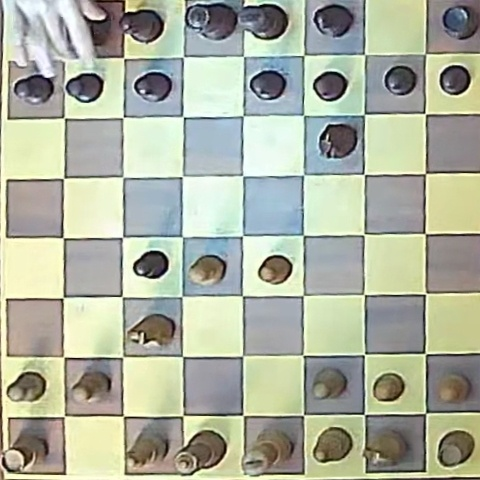black-bishop: (120, 9, 163, 44), (313, 4, 353, 38)
black-king: (239, 3, 286, 40)
black-knight: (318, 123, 357, 158)
black-pawn: (13, 73, 55, 105), (133, 71, 172, 102), (65, 72, 104, 102), (250, 70, 286, 100), (133, 250, 169, 280), (313, 71, 347, 101), (384, 65, 417, 95), (439, 65, 471, 95)
black-queen: (185, 3, 239, 41)
black-rook: (441, 5, 477, 39)
white-bishop: (127, 430, 168, 469), (313, 427, 352, 463)
white-king: (242, 428, 292, 475)
white-knight: (363, 430, 406, 467), (127, 314, 174, 347)
white-pawn: (71, 371, 110, 404), (6, 372, 46, 403), (188, 256, 225, 286), (312, 368, 346, 399), (258, 255, 292, 285), (438, 374, 468, 404), (373, 373, 404, 402)
white-queen: (172, 430, 226, 475)
white-rook: (1, 434, 46, 472), (437, 431, 474, 467)
